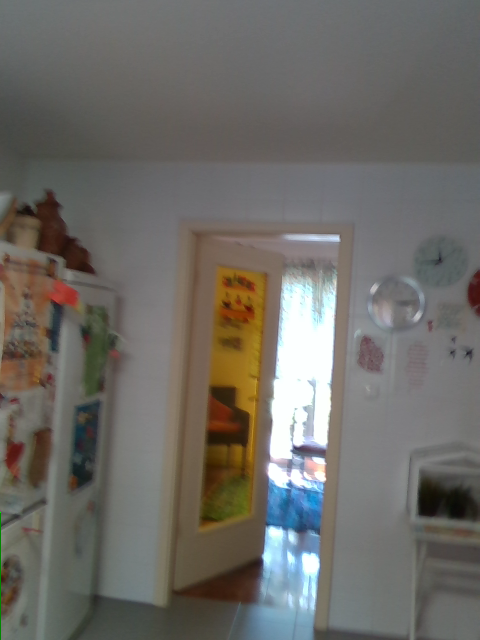semi: (155, 223, 353, 630)
